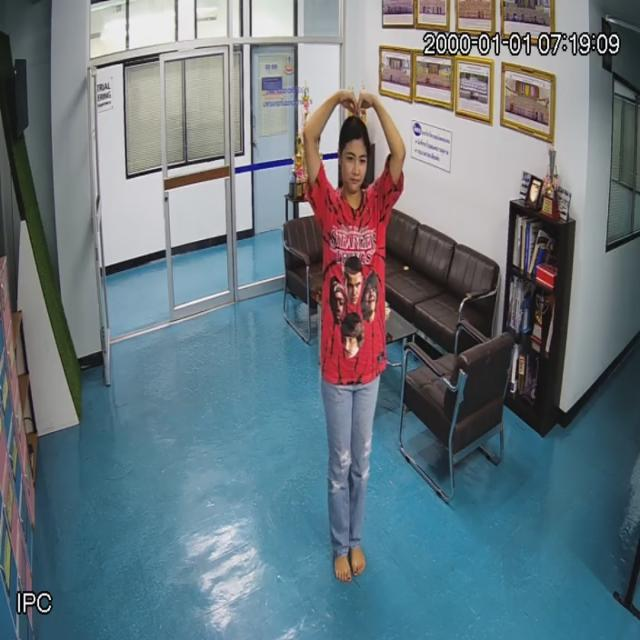normal: (316, 100, 400, 599)
